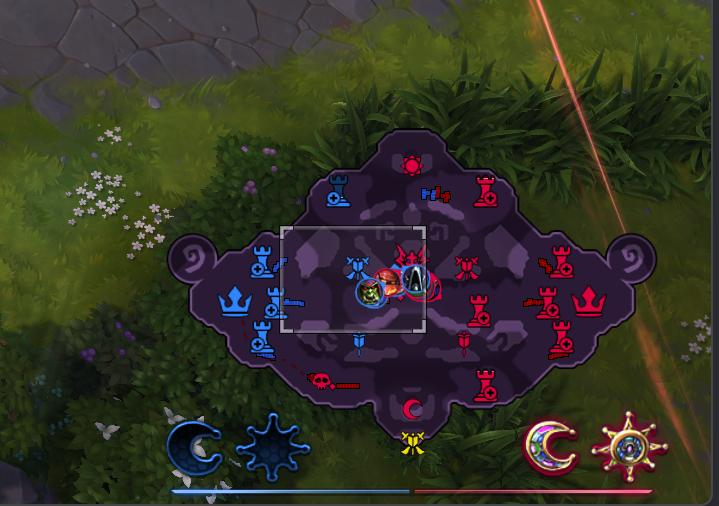blue nexus: (216, 284, 254, 317)
blue player: (399, 263, 431, 298), (355, 276, 385, 308)
blue tower: (247, 319, 276, 358), (325, 172, 351, 208), (249, 244, 276, 278), (264, 285, 290, 320)
dragon knight: (393, 240, 427, 270)
red nexus: (570, 284, 607, 317)
red player: (374, 267, 402, 297), (421, 272, 441, 303)
red tower: (539, 244, 574, 279), (546, 319, 574, 359), (533, 285, 560, 319), (472, 173, 498, 208), (472, 367, 497, 403), (466, 293, 491, 328)
